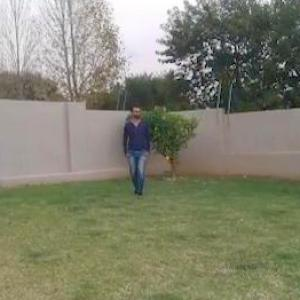follow: (126, 104, 150, 202)
